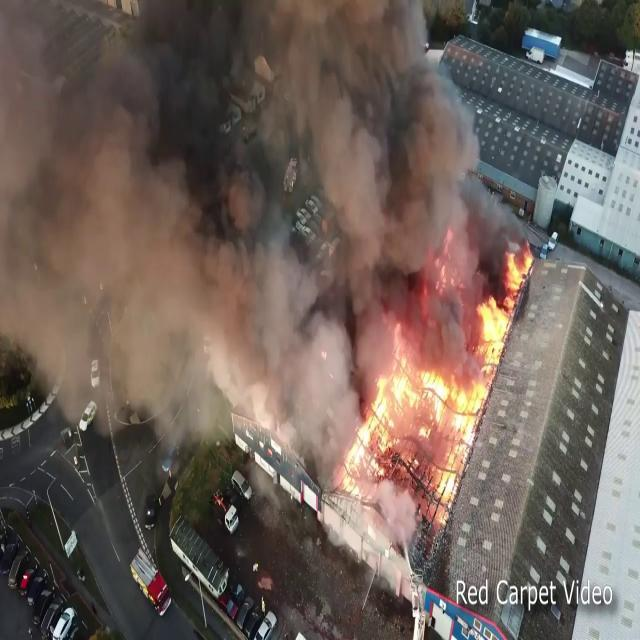Fire: (343, 343, 485, 501), (476, 244, 534, 368), (504, 242, 536, 297)
Smoke: (0, 0, 502, 420)
